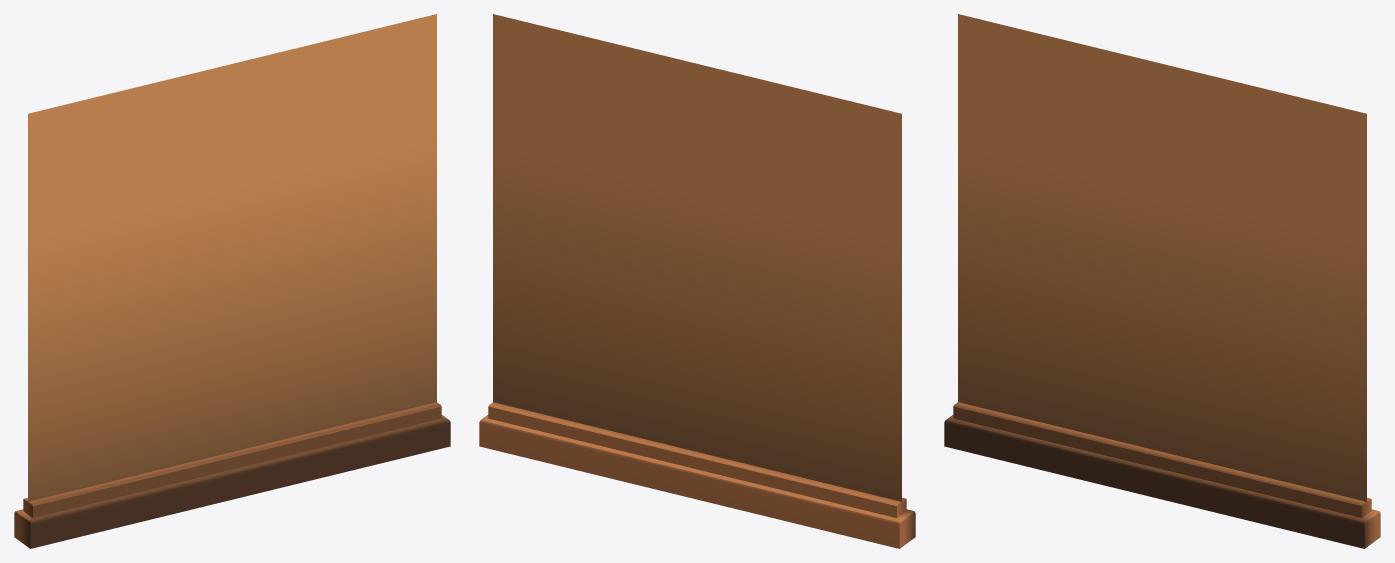
Rendered from blockedWall2.fbx.
3 renders of one model, left to right at view 1: azimuth 30°, elevation 25°; view 2: azimuth 150°, elevation 25°; view 3: azimuth 330°, elevation 25°, orthographic.
Parts seen in each view (by area): view 1: pPlane1, pCube1; view 2: pPlane1, pCube1; view 3: pPlane1, pCube1.
Boxes of the visible parts, bbox=[...] form: pPlane1: bbox=[28, 14, 436, 501]; pCube1: bbox=[14, 402, 450, 548]; pPlane1: bbox=[493, 14, 901, 501]; pCube1: bbox=[479, 402, 915, 548]; pPlane1: bbox=[958, 14, 1366, 501]; pCube1: bbox=[944, 402, 1380, 548].
Bounding box in the file's own units: 3.08 × 3 × 0.2062.
